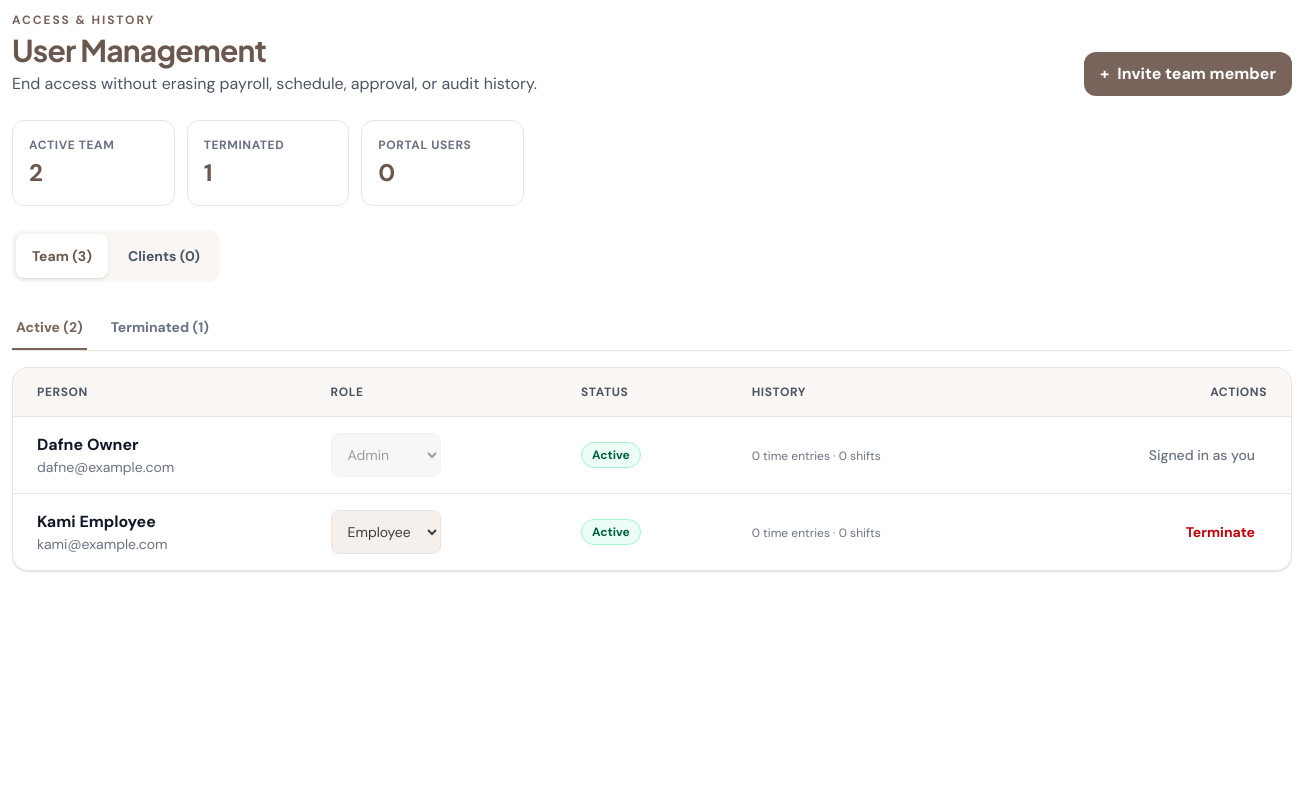
Scenario: Users › keeps terminated employees visible with retained history
Click the button "terminated (1)".
click(160, 328)  # box x1=107 y1=306 x2=213 y2=350
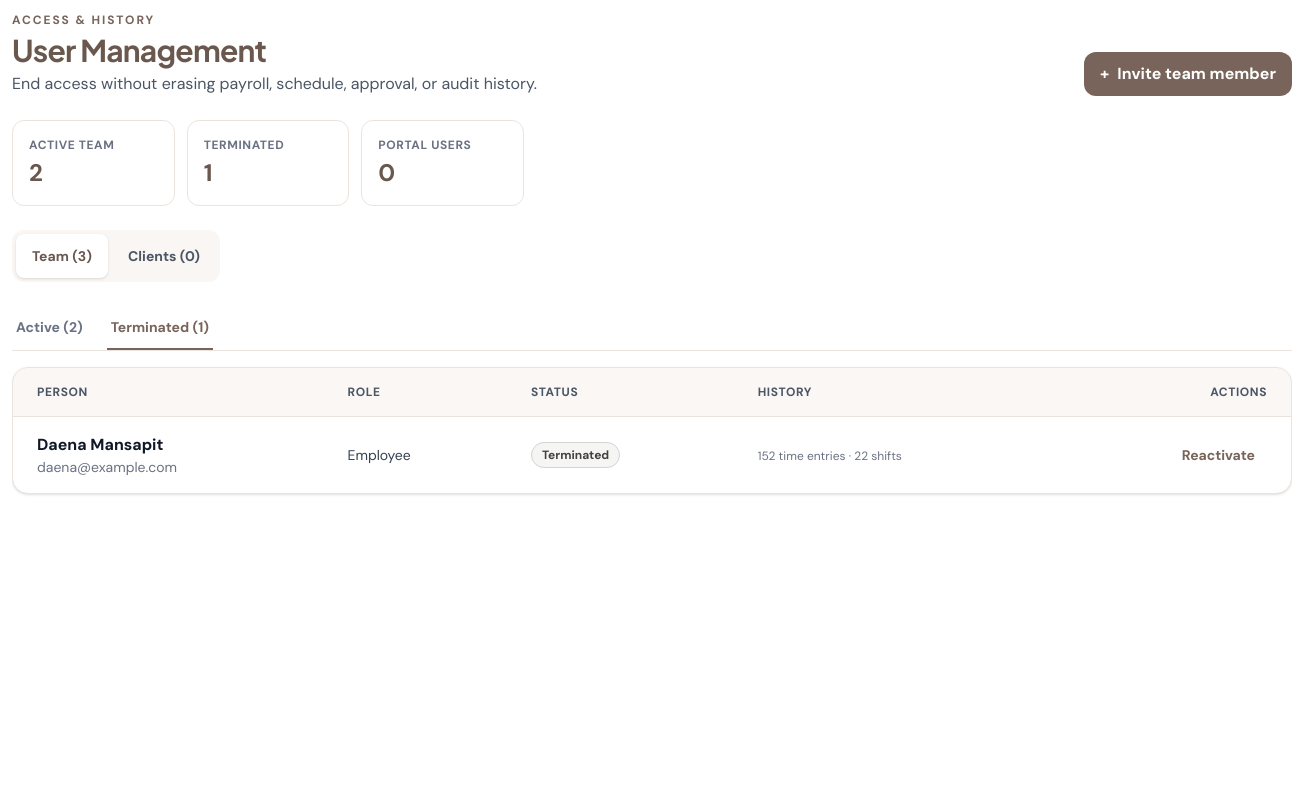
Expected: the text "Terminated" next to "Portal users" is shown, x1=204 y1=137 x2=284 y2=153
Result: the text "Daena Mansapit" is shown at x1=37 y1=434 x2=163 y2=455
Result: the text "152 time entries · 22 shifts" is shown at x1=758 y1=448 x2=902 y2=464
